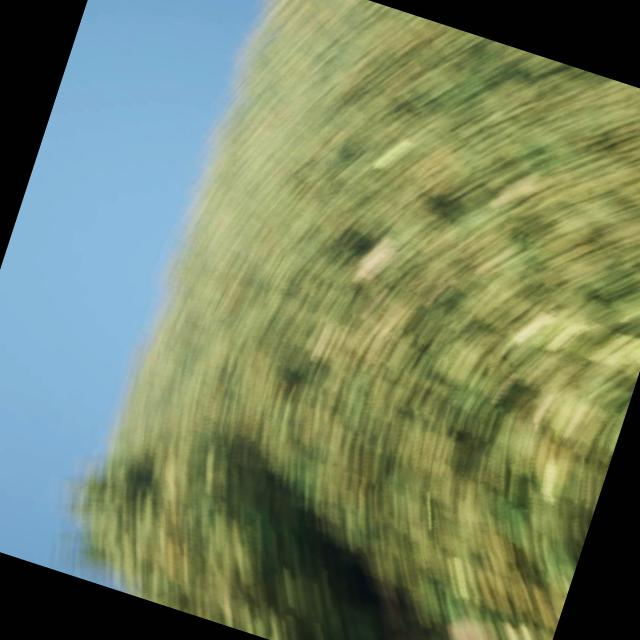smoke: (350, 605, 544, 640)
